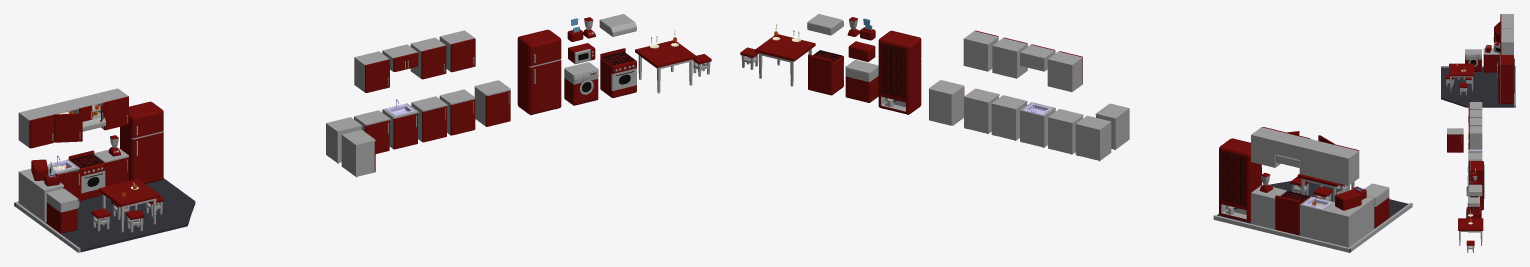
Rendered from kitchen.ufbx.obj.
3 renders of one model, left to right at view 1: azimuth 30°, elevation 25°; view 2: azimuth 150°, elevation 25°; view 3: azimuth 270°, elevation 25°, orthographic. The views are drawn at different scales.
Visible parts, largest first — view 1: Plane.002_Plane.001, Cube.093_Cube.121, Cube.091_Cube.119, Cube.109_Cube.137, Cube.150_Cube.178, Cube.157_Cube.185, Cylinder.056_Cylinder.074, Cube.088_Cube.116, Cube.097_Cube.125, Cube.059_Cube.113, Cube.144_Cube.172, Cube.133_Cube.161 (+30 smaller); view 2: Cylinder.056_Cylinder.074, Cylinder.055_Cylinder.073, Plane.002_Plane.001, Cube.144_Cube.172, Cube.097_Cube.125, Cube.113_Cube.141, Cube.141_Cube.169, Cube.059_Cube.113, Cube.120_Cube.148, Cube.137_Cube.165, Cube.150_Cube.178, Cube.124_Cube.152 (+19 smaller); view 3: Plane.002_Plane.001, Cylinder.055_Cylinder.073, Cube.157_Cube.185, Cube.150_Cube.178, Cylinder.056_Cylinder.074, Cube.122_Cube.150, Cube.110_Cube.138, Cube.127_Cube.155, Cube.139_Cube.167, Cube.088_Cube.116, Cube.155_Cube.183, Cube.097_Cube.125 (+17 smaller).
Boxes of the visible parts, left/top/right/bottom form: Plane.002_Plane.001: left=14, top=178, right=195, bottom=252; Cube.093_Cube.121: left=528, top=60, right=561, bottom=114; Cube.091_Cube.119: left=131, top=131, right=163, bottom=183; Cube.109_Cube.137: left=341, top=130, right=375, bottom=177; Cube.150_Cube.178: left=635, top=40, right=696, bottom=93; Cube.157_Cube.185: left=98, top=179, right=160, bottom=232; Cylinder.056_Cylinder.074: left=517, top=29, right=560, bottom=115; Cube.088_Cube.116: left=46, top=188, right=78, bottom=233; Cube.097_Cube.125: left=600, top=48, right=636, bottom=97; Cube.059_Cube.113: left=564, top=62, right=598, bottom=105; Cube.144_Cube.172: left=326, top=117, right=362, bottom=163; Cube.133_Cube.161: left=54, top=113, right=82, bottom=142; Cylinder.056_Cylinder.074: left=878, top=31, right=920, bottom=114; Cylinder.055_Cylinder.073: left=1219, top=138, right=1261, bottom=222; Plane.002_Plane.001: left=1213, top=181, right=1412, bottom=252; Cube.144_Cube.172: left=1075, top=115, right=1111, bottom=161; Cube.097_Cube.125: left=808, top=50, right=843, bottom=95; Cube.113_Cube.141: left=929, top=80, right=964, bottom=125; Cube.141_Cube.169: left=1324, top=203, right=1360, bottom=247; Cube.059_Cube.113: left=845, top=60, right=878, bottom=102; Cube.120_Cube.148: left=1047, top=51, right=1082, bottom=91; Cube.137_Cube.165: left=1324, top=145, right=1359, bottom=185; Cube.150_Cube.178: left=755, top=34, right=815, bottom=86; Cube.124_Cube.152: left=991, top=95, right=1027, bottom=140; Plane.002_Plane.001: left=1441, top=66, right=1515, bottom=107; Cylinder.055_Cylinder.073: left=1498, top=55, right=1514, bottom=104; Cube.157_Cube.185: left=1449, top=63, right=1474, bottom=91; Cube.150_Cube.178: left=1458, top=218, right=1483, bottom=245; Cylinder.056_Cylinder.074: left=1468, top=161, right=1484, bottom=210; Cube.122_Cube.150: left=1469, top=126, right=1482, bottom=149; Cube.110_Cube.138: left=1447, top=134, right=1463, bottom=152; Cube.127_Cube.155: left=1483, top=54, right=1498, bottom=72; Cube.139_Cube.167: left=1501, top=35, right=1513, bottom=55; Cube.088_Cube.116: left=1465, top=49, right=1481, bottom=71; Cube.155_Cube.183: left=1466, top=184, right=1482, bottom=196; Cube.097_Cube.125: left=1466, top=205, right=1481, bottom=232.
Bounding box in the file's own units: 3.04 × 0.4174 × 0.5143.
